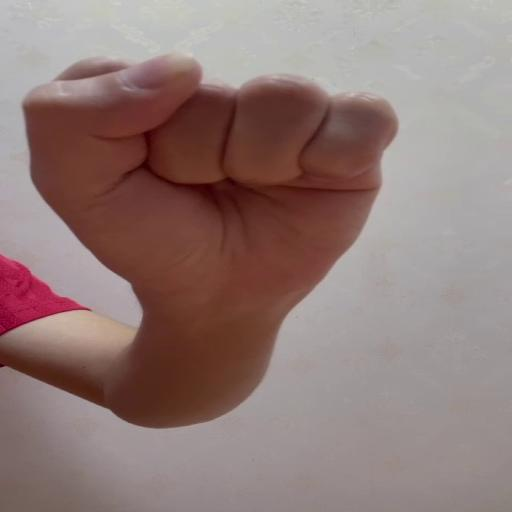fist: (21, 56, 400, 291)
